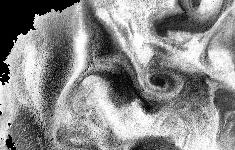CE: (138, 64, 186, 102)
